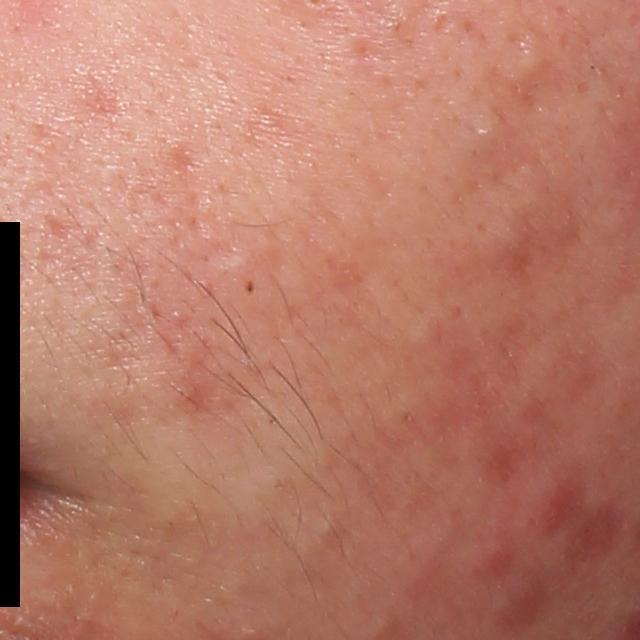atrophic_scar: (176, 338, 222, 415), (168, 146, 207, 183), (42, 213, 71, 243)
comedo: (458, 110, 507, 151), (310, 511, 350, 552), (513, 47, 549, 80), (367, 609, 391, 640), (245, 279, 258, 298)
papule: (517, 451, 587, 543), (464, 524, 520, 594), (482, 571, 540, 638)
